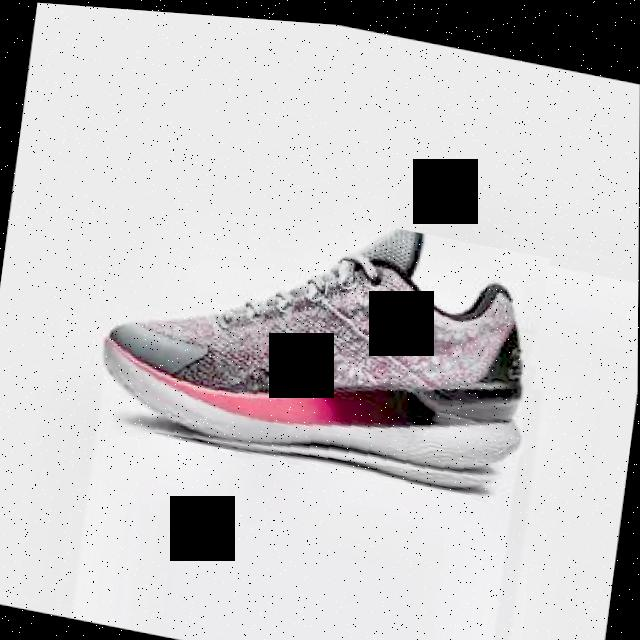shoe: (95, 176, 542, 497), (98, 223, 528, 470)
